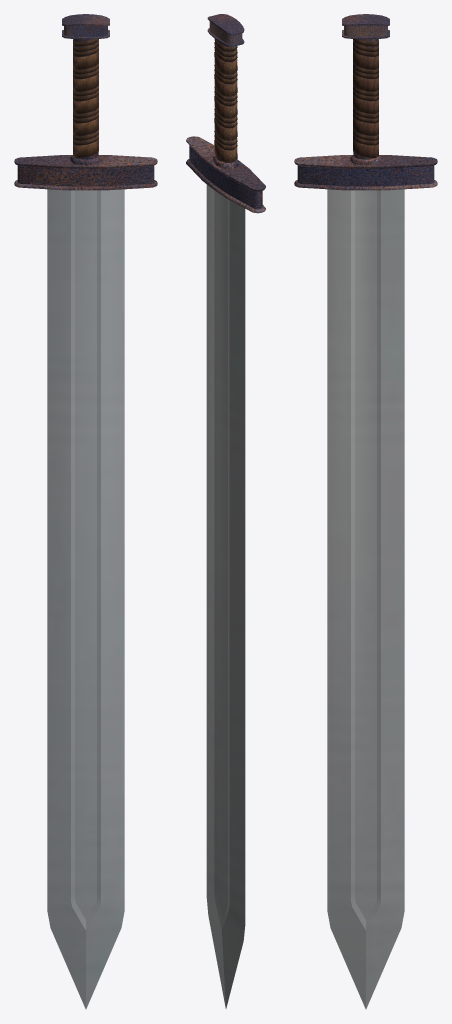
Rendered from sword.obj.
3 renders of one model, left to right at view 1: azimuth 90°, elevation 25°; view 2: azimuth 210°, elevation 25°; view 3: azimuth 270°, elevation 25°, orthographic.
Visible parts, largest first — view 1: Object001; view 2: Object001; view 3: Object001.
Part boxes in pixels (x1,y1,x2,y2): Object001: (14, 14, 157, 1009); Object001: (186, 14, 265, 1008); Object001: (294, 14, 437, 1009).
Size of the model in its own units: 0.025 by 0.9548 by 0.125.
Materials: 3 (3 with a texture image).
